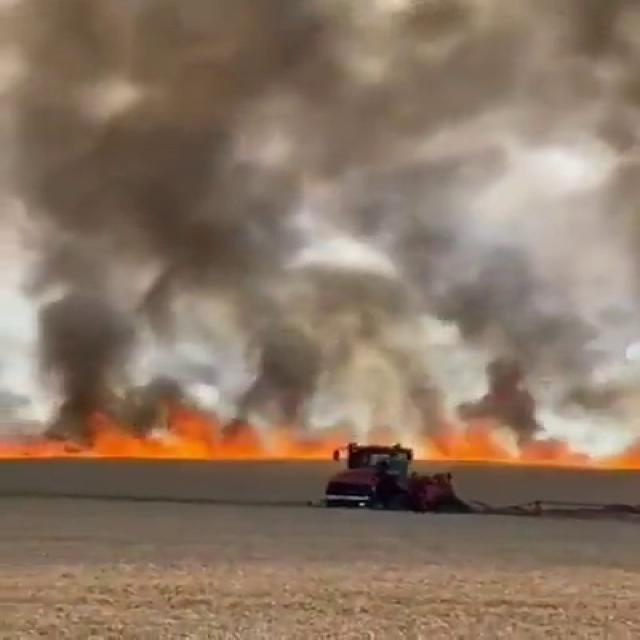Fire: (11, 399, 349, 468), (421, 425, 640, 470)
